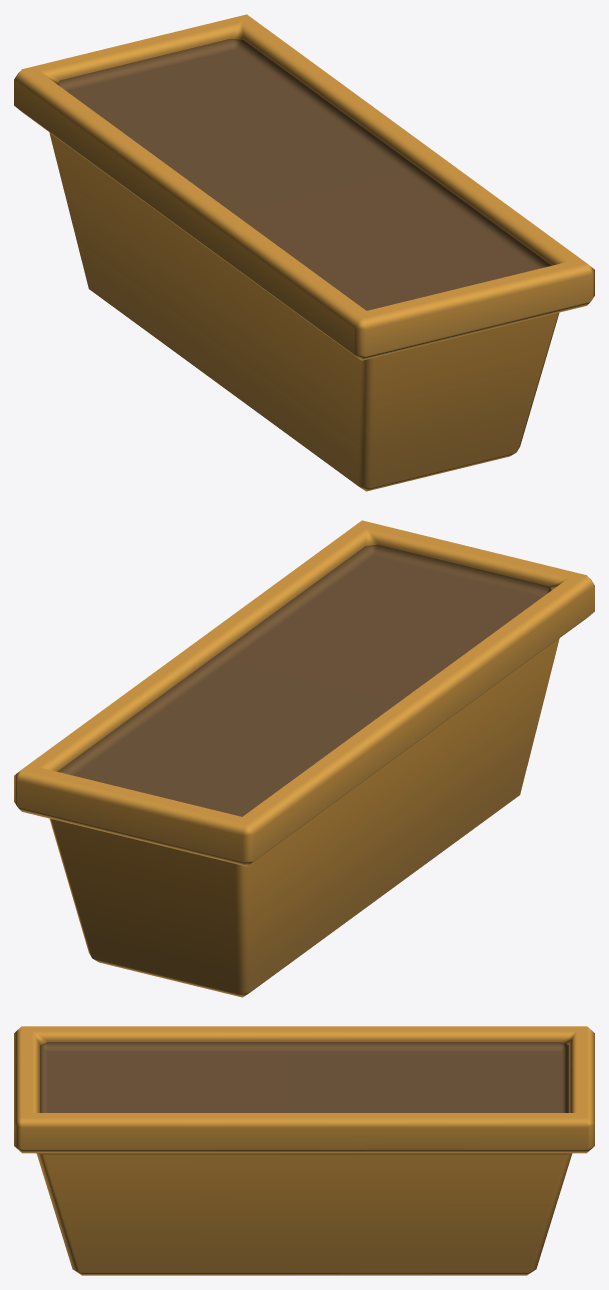
File: PlantPot_Wide.fbx
3 views of the same model, one above another, from view 1: azimuth 30°, elevation 25°; view 2: azimuth 150°, elevation 25°; view 3: azimuth 270°, elevation 25° (orthographic). The views are drawn at different scales.
Parts seen in each view (by area): view 1: PlantPot_Wide; view 2: PlantPot_Wide; view 3: PlantPot_Wide.
Part boxes in pixels (x1=…): PlantPot_Wide: x1=14, y1=14, x2=594, y2=491; PlantPot_Wide: x1=14, y1=520, x2=594, y2=997; PlantPot_Wide: x1=14, y1=1026, x2=594, y2=1275.
Bounding box in the file's own units: 59.82 × 49.82 × 150.
